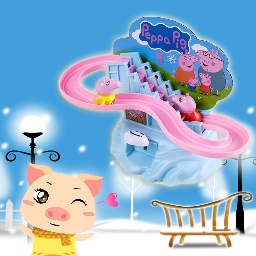Peppa: (198, 73, 214, 98)
